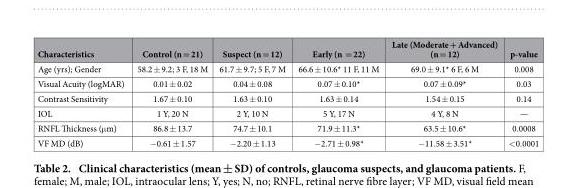table: (36, 37, 538, 148)
table column: (384, 37, 502, 148), (36, 37, 130, 148), (291, 37, 384, 148), (130, 37, 212, 148), (212, 37, 291, 148), (502, 37, 538, 148)
table column header: (36, 37, 538, 60)
table row: (36, 37, 538, 60), (36, 60, 538, 75), (36, 75, 538, 90), (36, 90, 538, 105), (36, 105, 538, 120), (36, 120, 538, 135), (36, 135, 538, 148)
